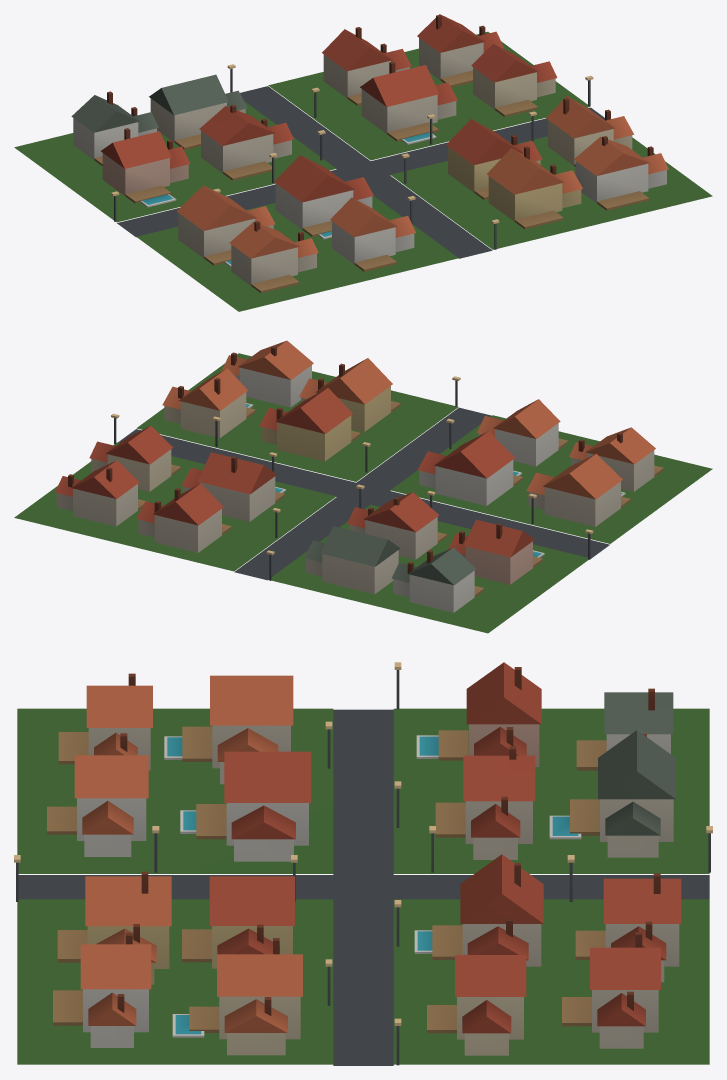
File: district_hilltop.fbx
The picture shows the model from 3 angles, top to bottom: view 1: azimuth 30°, elevation 25°; view 2: azimuth 150°, elevation 25°; view 3: azimuth 270°, elevation 25°; orthographic projection. The views are drawn at different scales.
Visible parts, largest first — view 1: district_hilltop; view 2: district_hilltop; view 3: district_hilltop.
Boxes of the visible parts, bbox=[...] form: district_hilltop: bbox=[14, 14, 712, 311]; district_hilltop: bbox=[14, 340, 712, 633]; district_hilltop: bbox=[14, 662, 712, 1065].
Size of the model in its own units: 113 by 12.31 by 92.9.
